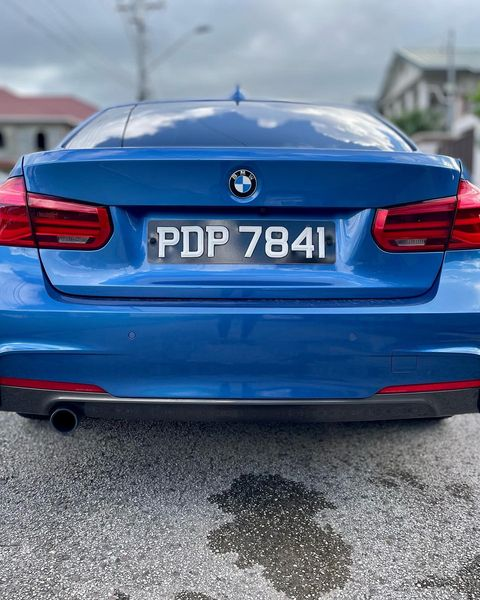License-Plate: (148, 220, 334, 262)
